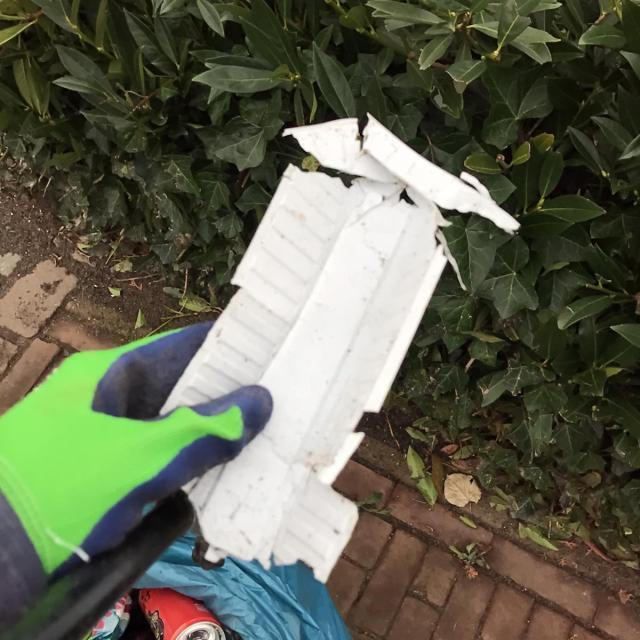Can-Metal: (136, 587, 226, 640)
Plastic: (156, 110, 522, 588)
